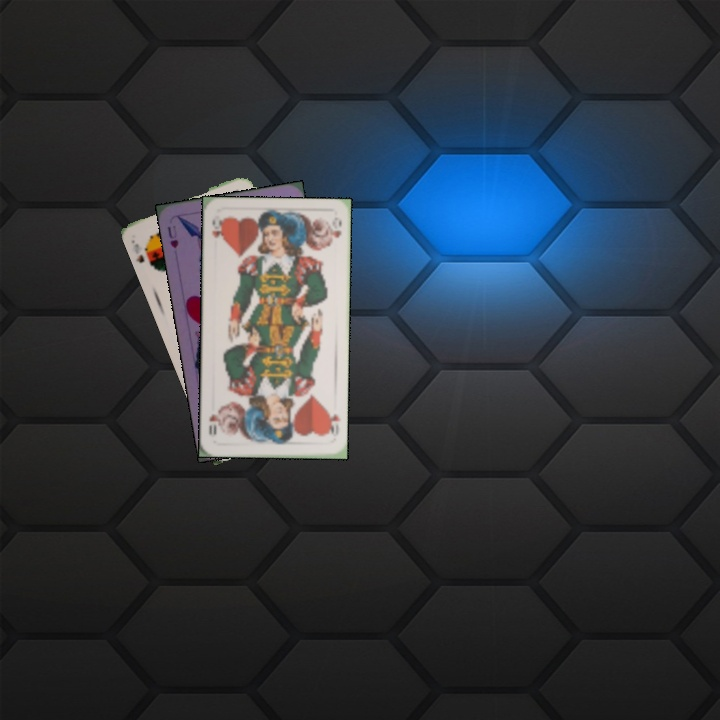HO: (323, 406, 343, 439), (208, 213, 225, 244)
HU: (163, 221, 181, 251)
SO: (127, 235, 157, 270)
